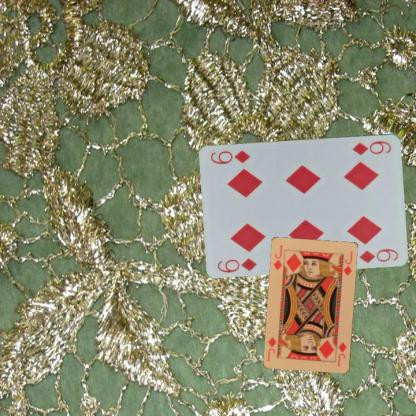6d: (349, 138, 393, 157), (215, 256, 258, 274)
Jd: (334, 340, 349, 368), (271, 242, 284, 272)
